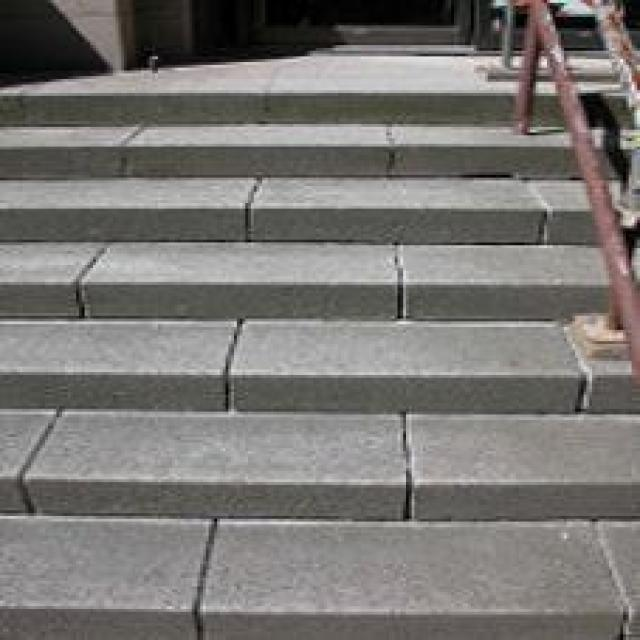upstair: (7, 83, 633, 514)
